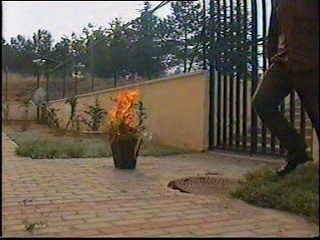fire: (101, 75, 150, 132)
